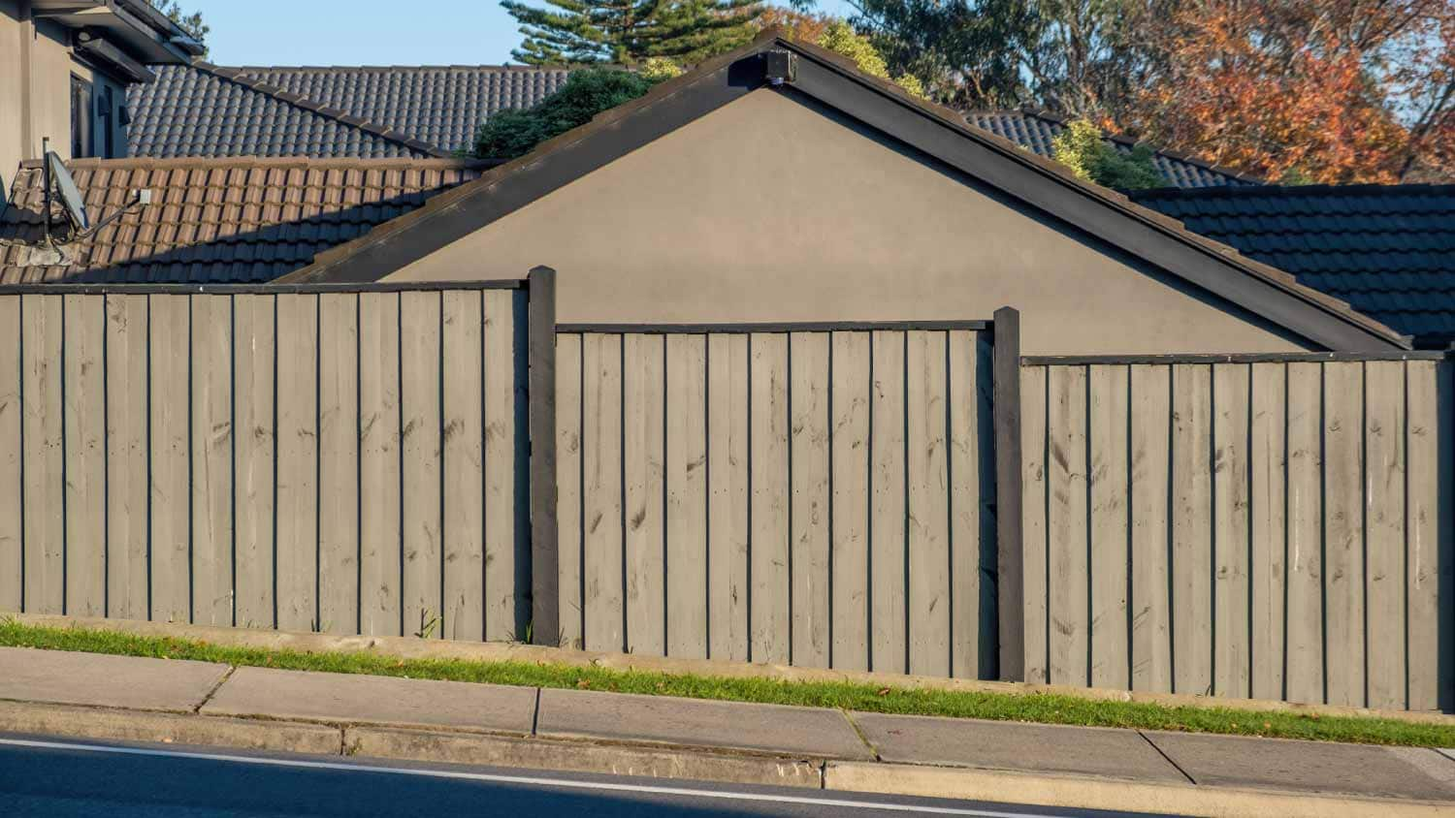Fence: (28, 282, 1455, 729)
